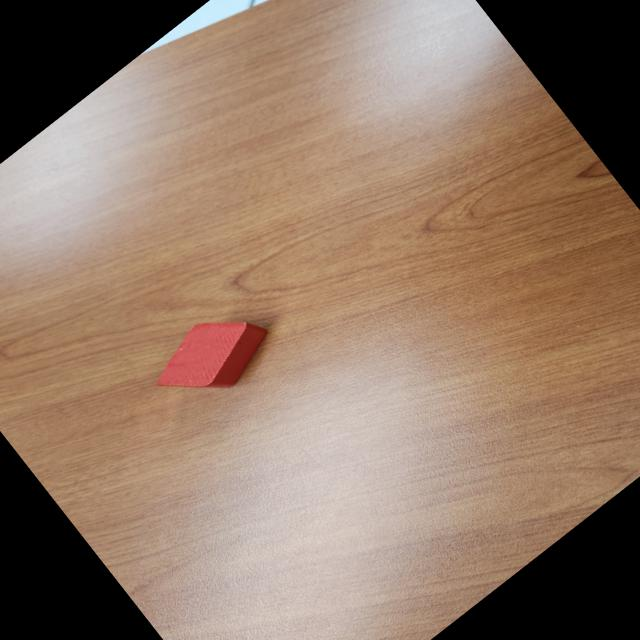red: (140, 290, 284, 426)
